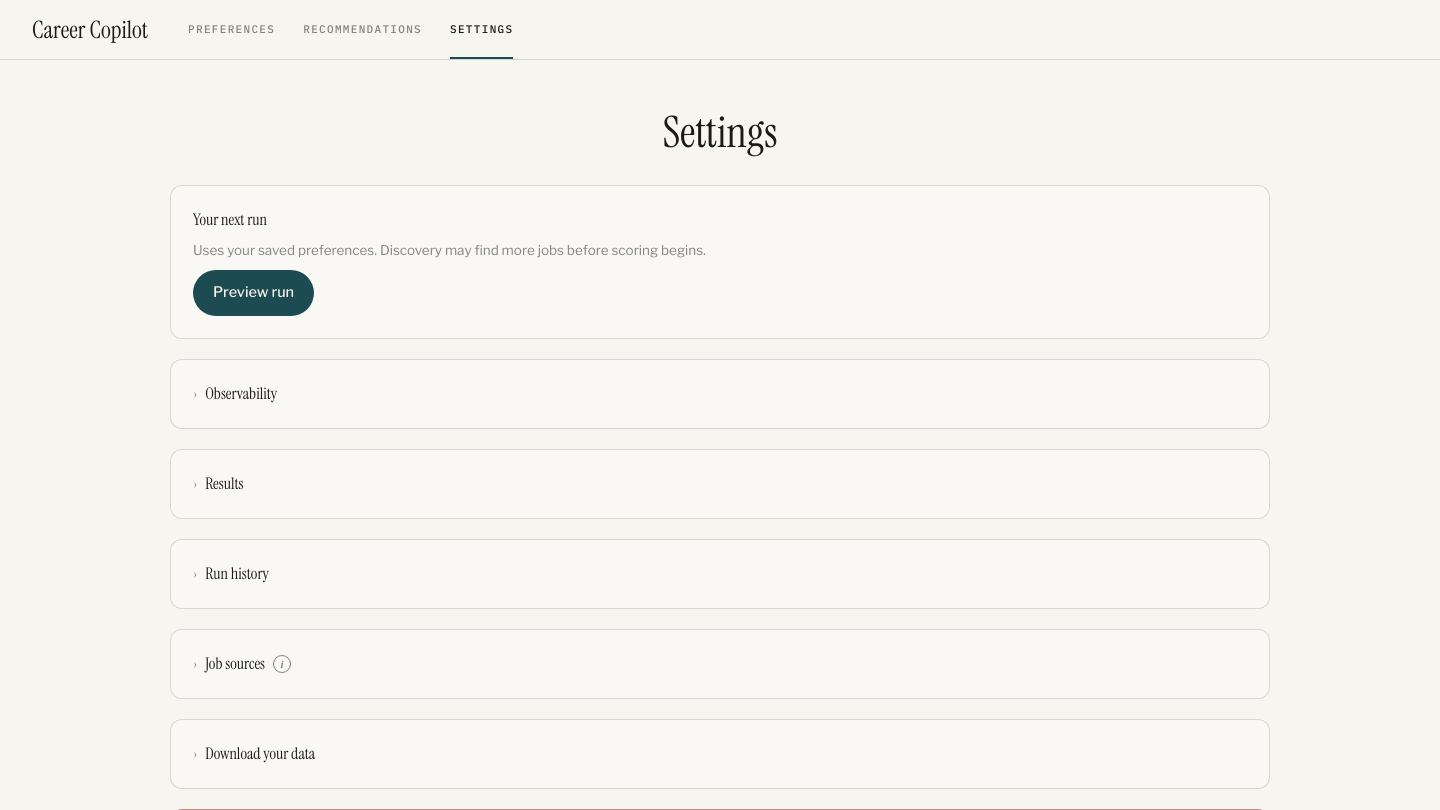
Test: settings page › says a key is missing instead of offering an approval it cannot honour
Click the button "Preview run".
click(254, 293)  # box [193,270,314,316]
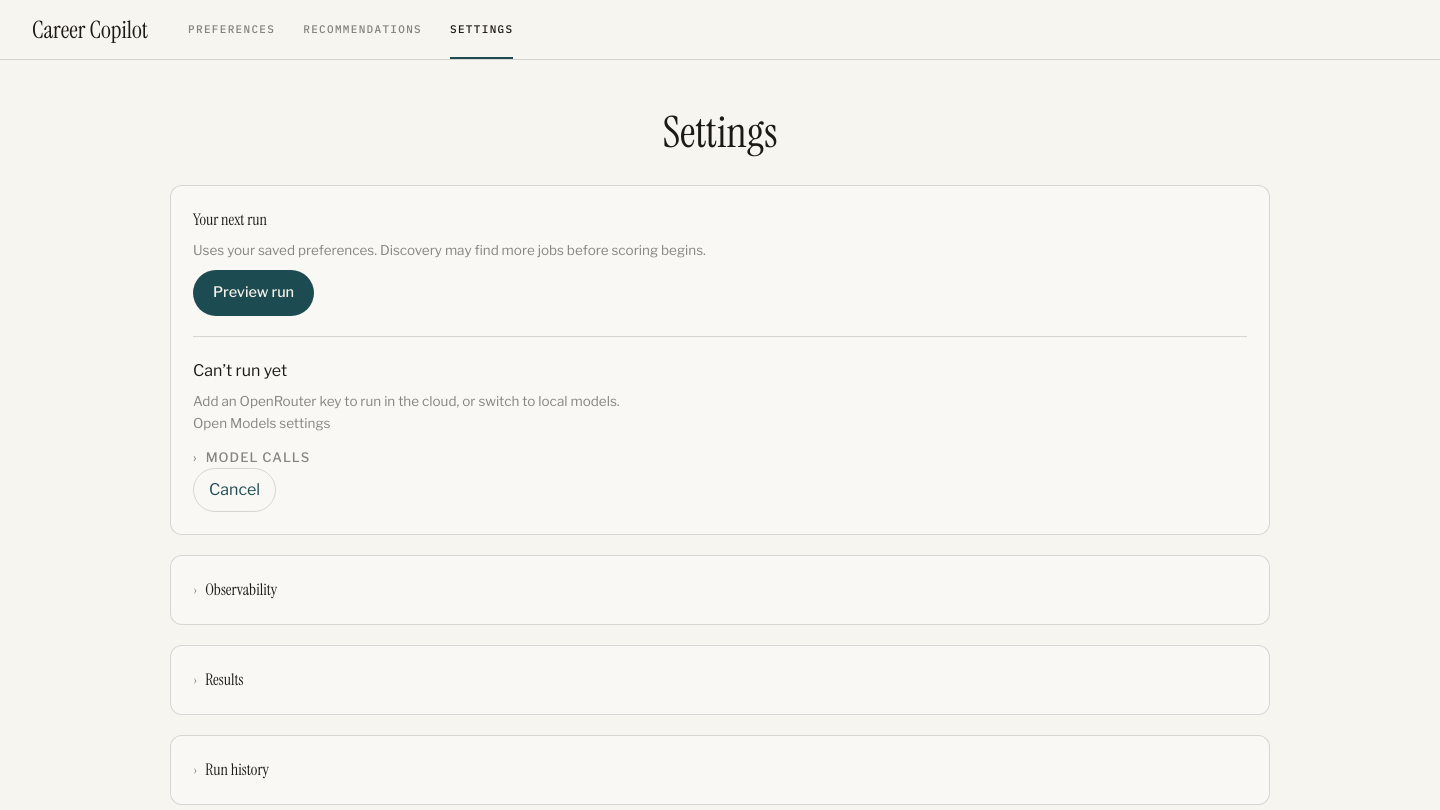
Expected: the heading "Can’t run yet" is shown, [193,361,287,380]
Expected: the text "Add an OpenRouter key to run in the cloud" is shown, [193,393,620,409]
The roles sit in a block of boxes, like Agent runs, behind "Model calls".
Click the button "› Model calls".
click(252, 458)  # box [193,448,310,468]
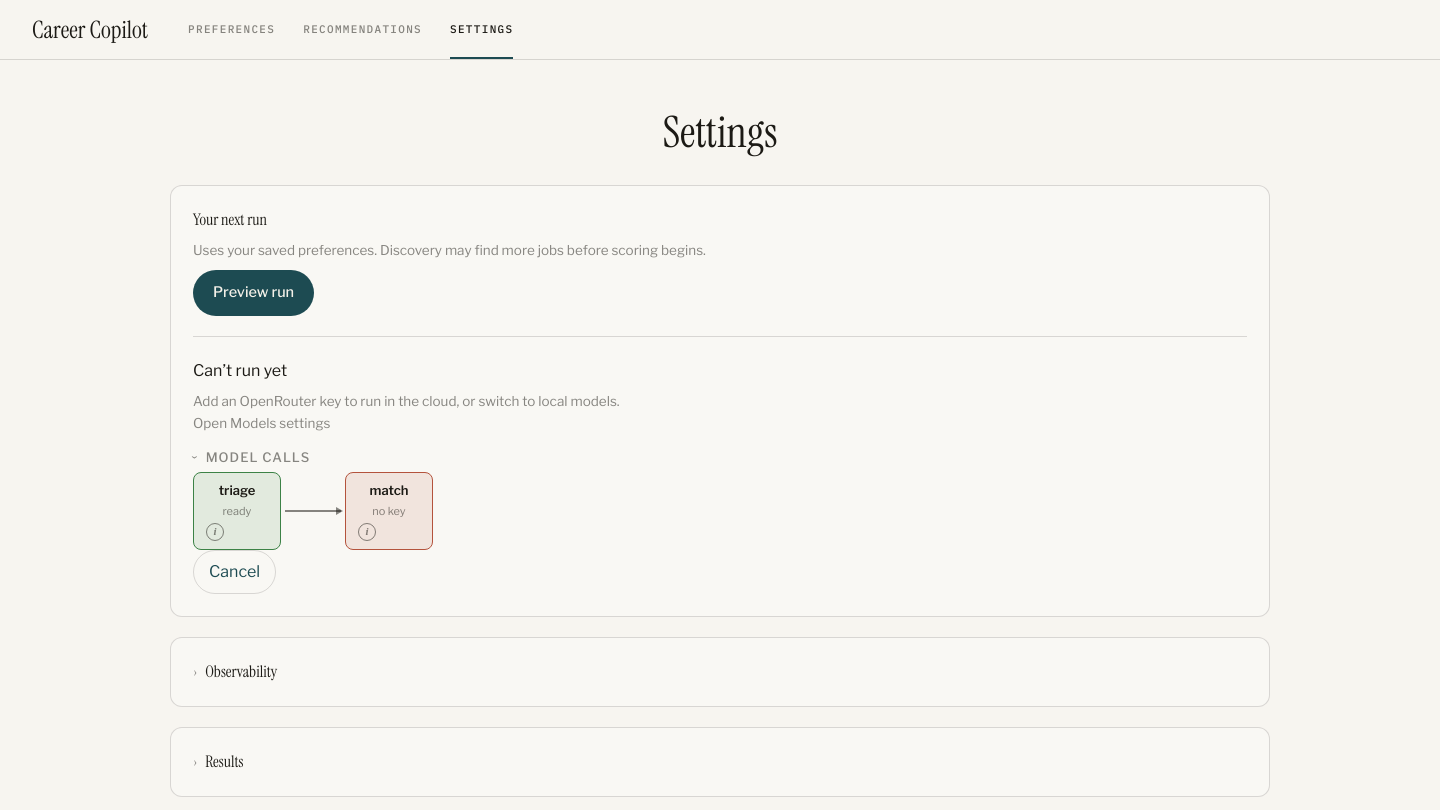
Expected: the text "no key" is shown, [372,504,406,518]
Cancel goes back to how the card was before Preview run.
Click the button "Cancel".
click(235, 572)  # box [193,550,276,594]
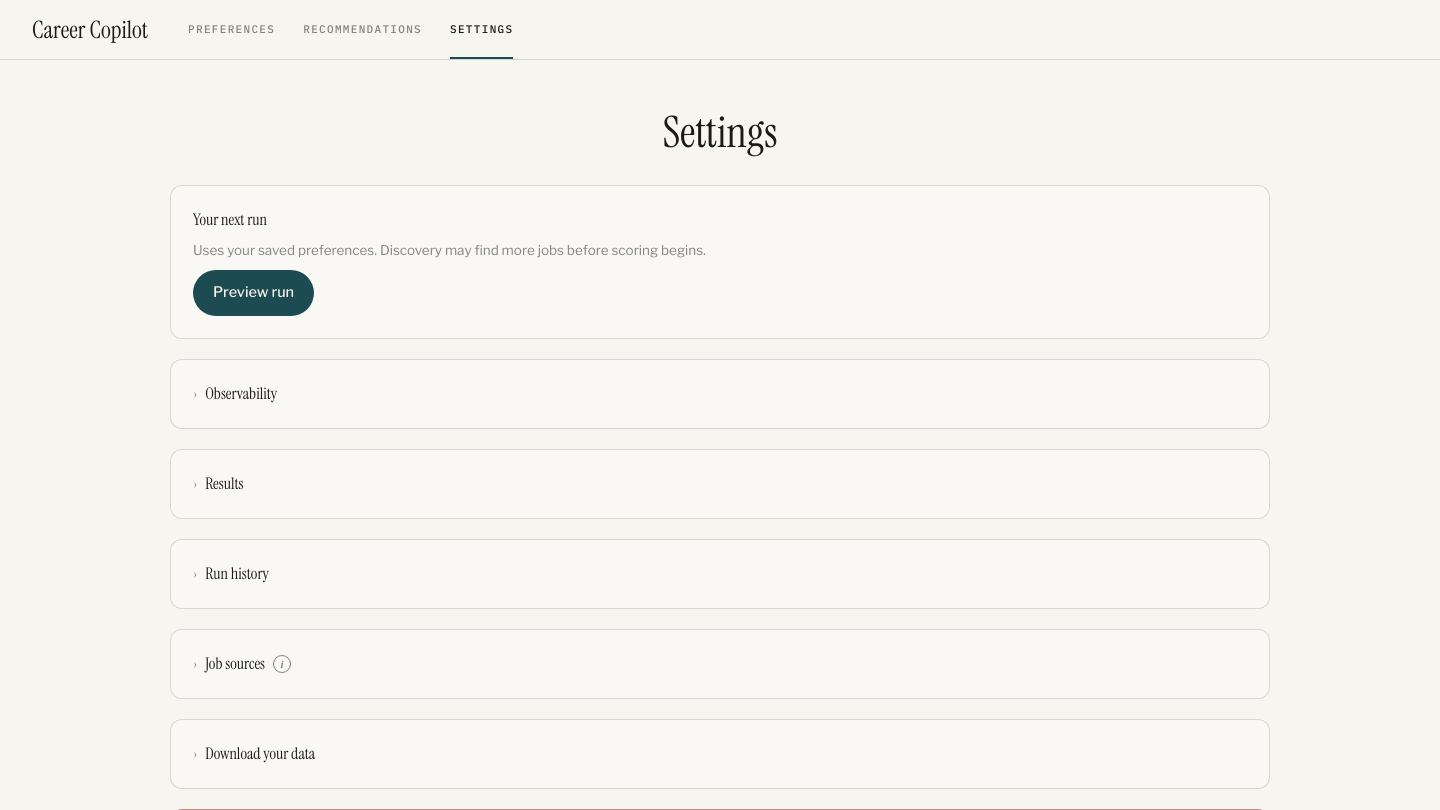
Expected: the button "Preview run" is enabled, [193,270,314,316]
Expected: the heading "Can’t run yet" is gone
